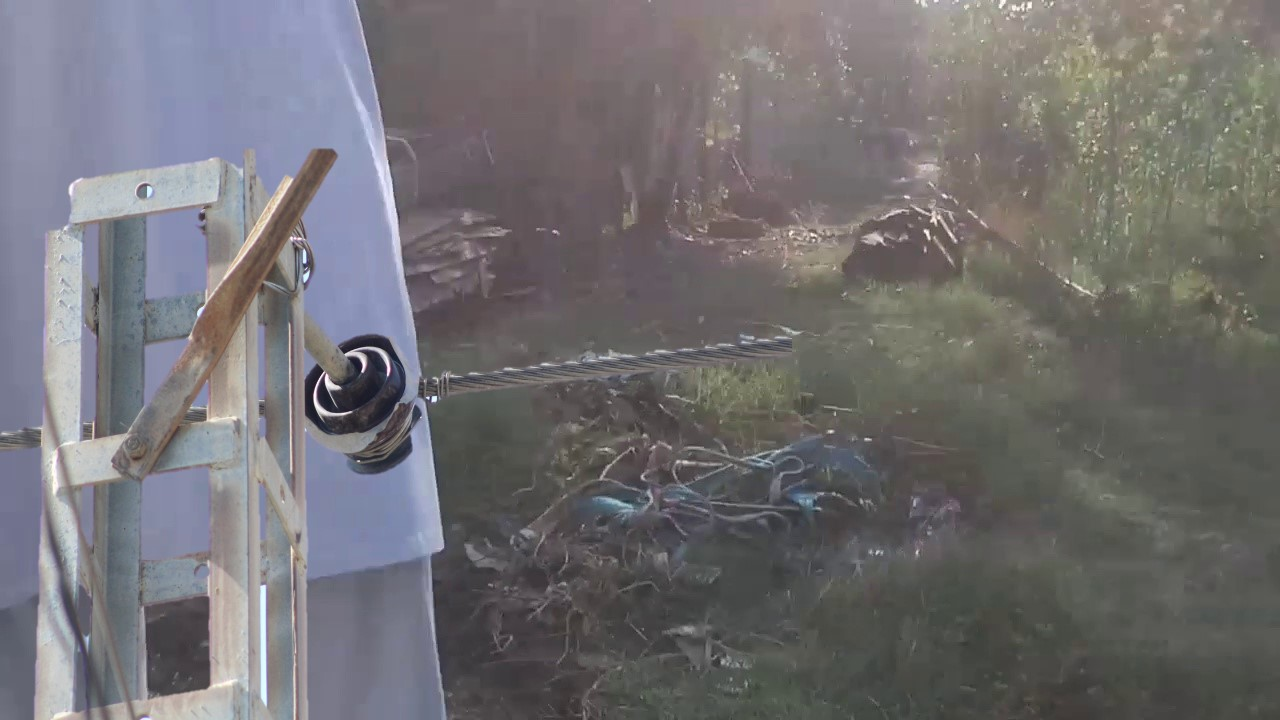defect_pin: (300, 330, 426, 479)
